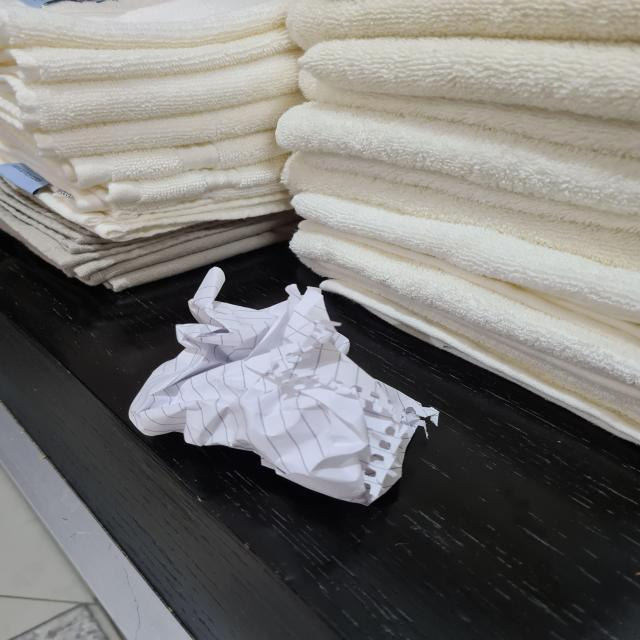trash: (123, 263, 425, 505)
